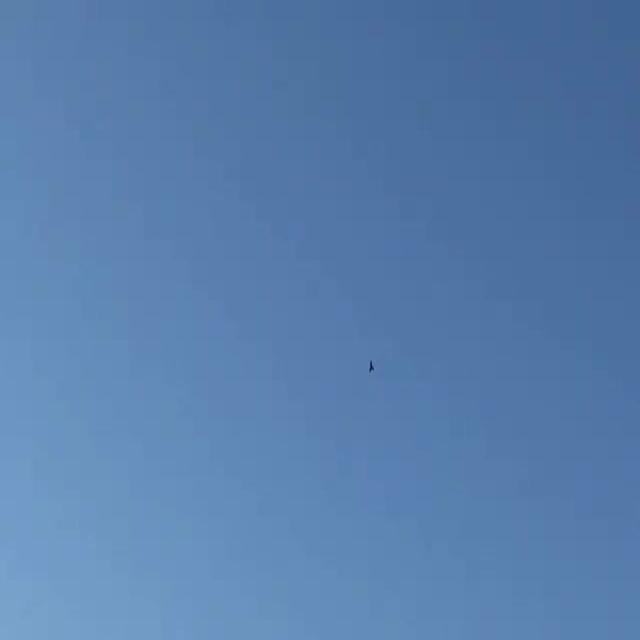bird: (365, 358, 377, 370)
